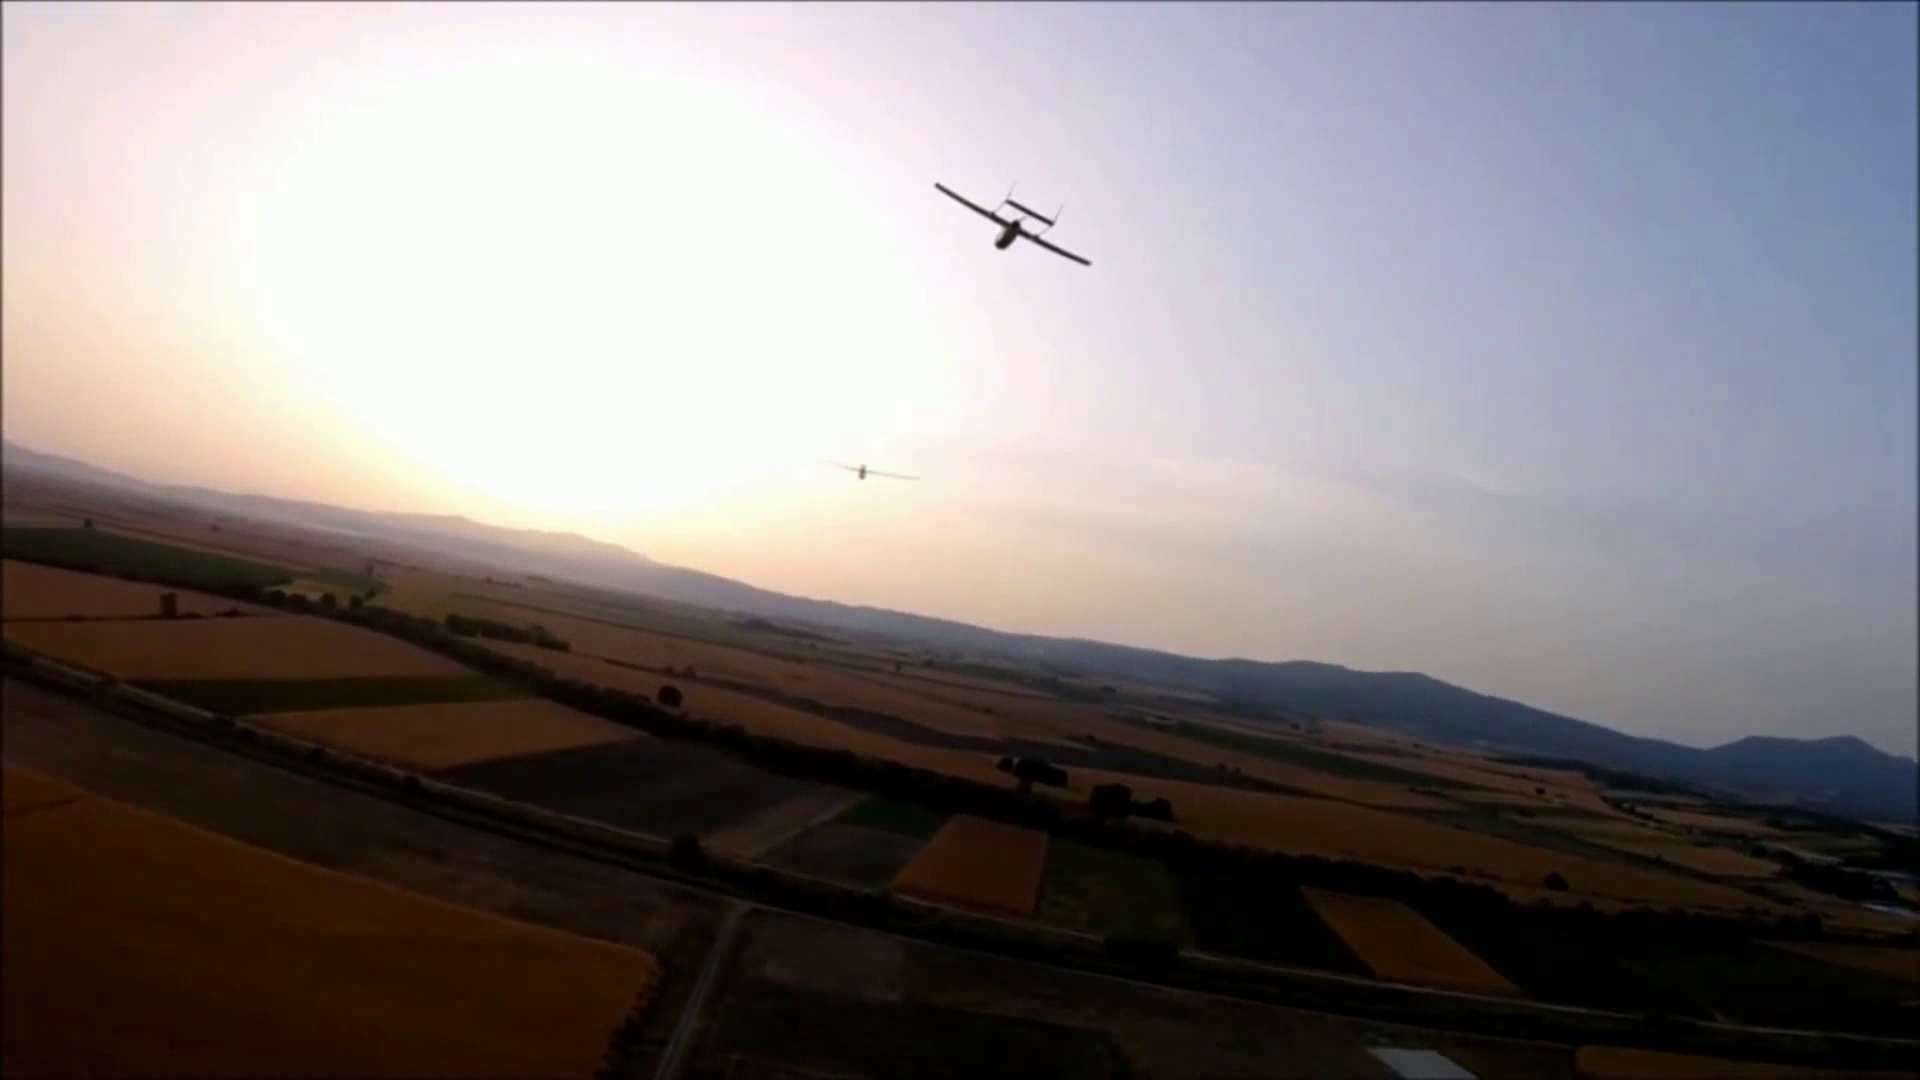airplane: (932, 181, 1095, 265)
